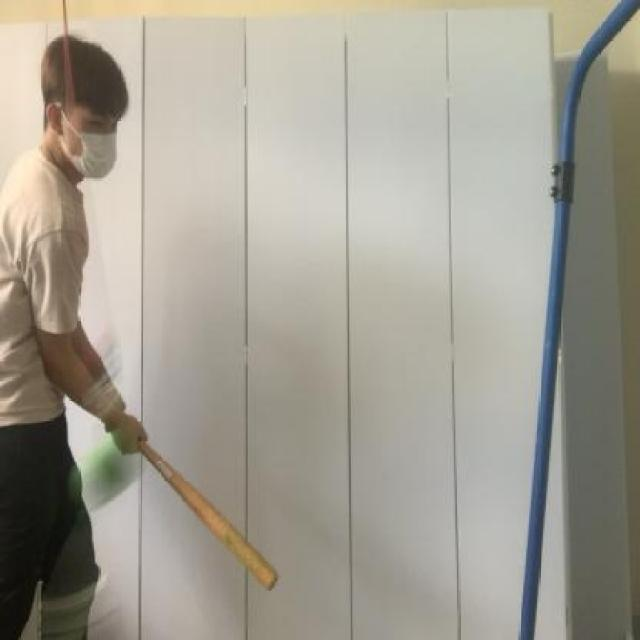baseball: (61, 412, 150, 503)
